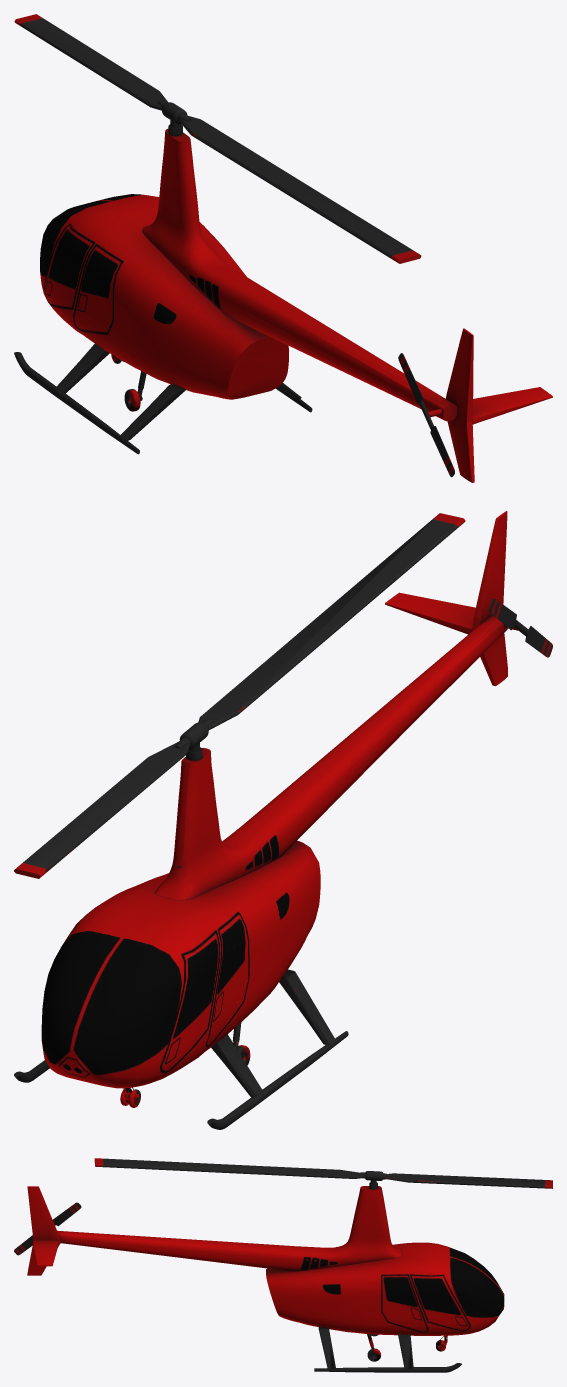
Rendered from Airplane_S2AGP_R66.glb.
The picture shows the model from 3 angles, top to bottom: view 1: azimuth 30°, elevation 25°; view 2: azimuth 150°, elevation 25°; view 3: azimuth 270°, elevation 25°; orthographic projection. The views are drawn at different scales.
Visible parts, largest first — view 1: R66; view 2: R66; view 3: R66, Landing_Wheel.
Boxes of the visible parts, left/top/right/bottom form: R66: left=14, top=14, right=552, bottom=482; R66: left=14, top=511, right=552, bottom=1129; R66: left=14, top=1158, right=552, bottom=1372; Landing_Wheel: left=367, top=1334, right=447, bottom=1361.
Size of the model in its own units: 0.8189 by 1.32 by 3.41.
Materials: 1 (1 with a texture image).
